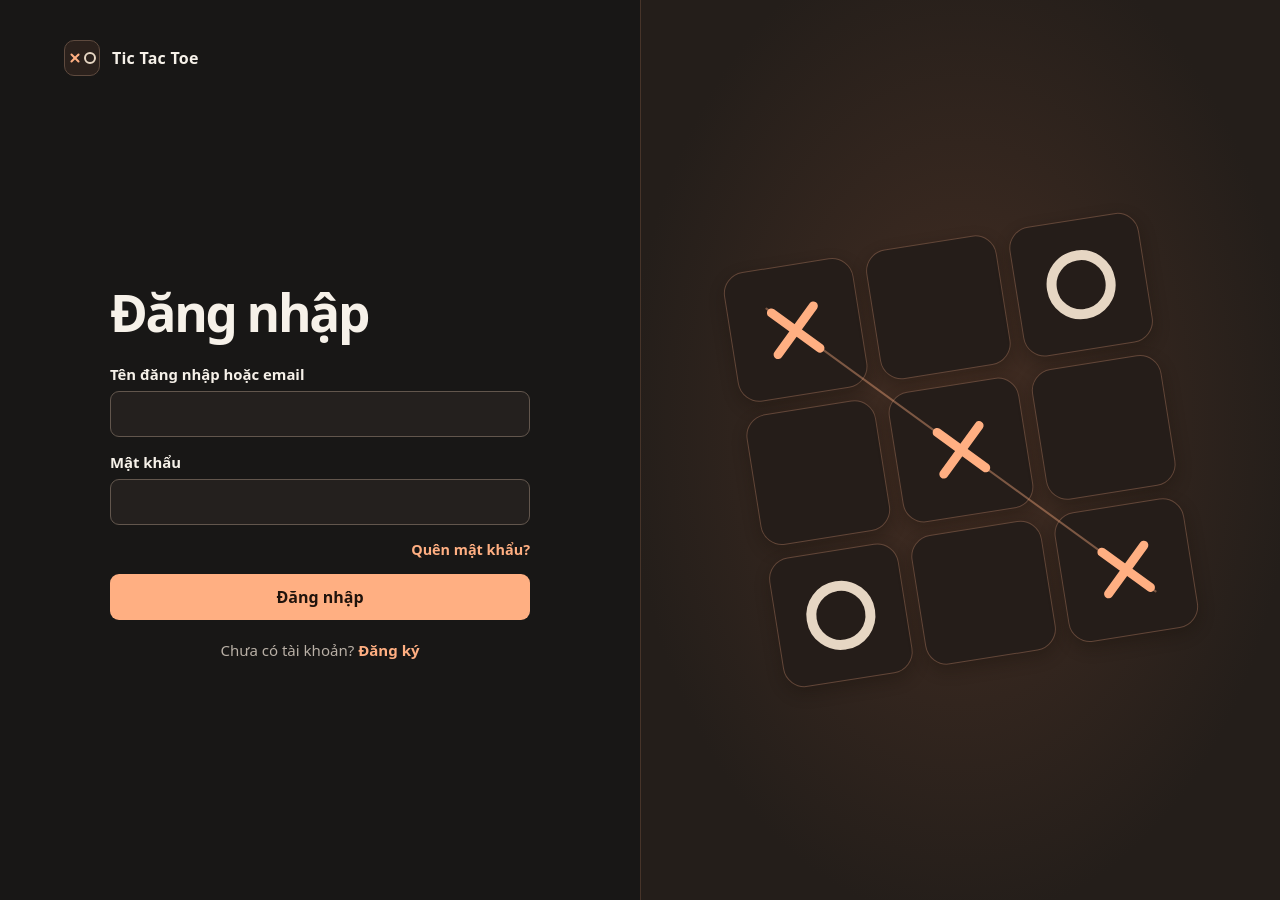
Test: Đăng ký tài khoản › gửi dữ liệu đăng ký rồi chuyển về màn hình đăng nhập với tên đã điền
Click the button "Đăng ký" at coordinates (389, 650), box [358,640,420,660]
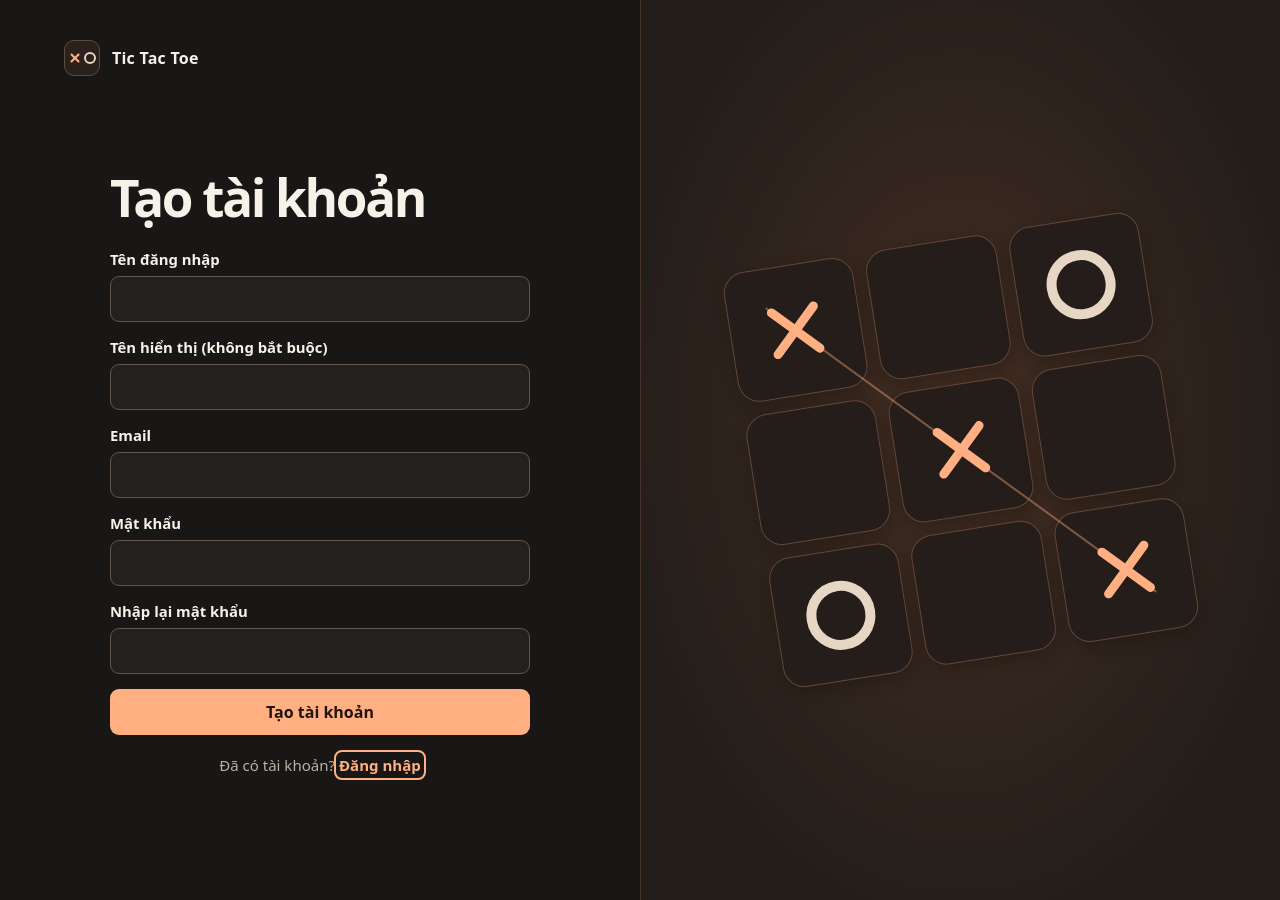
Type "player_one" into the field labelled "Tên đăng nhập" at coordinates (320, 299), box [110,276,530,322]
Type "Player One" into the field labelled "Tên hiển thị (không bắt buộc)" at coordinates (320, 387), box [110,364,530,410]
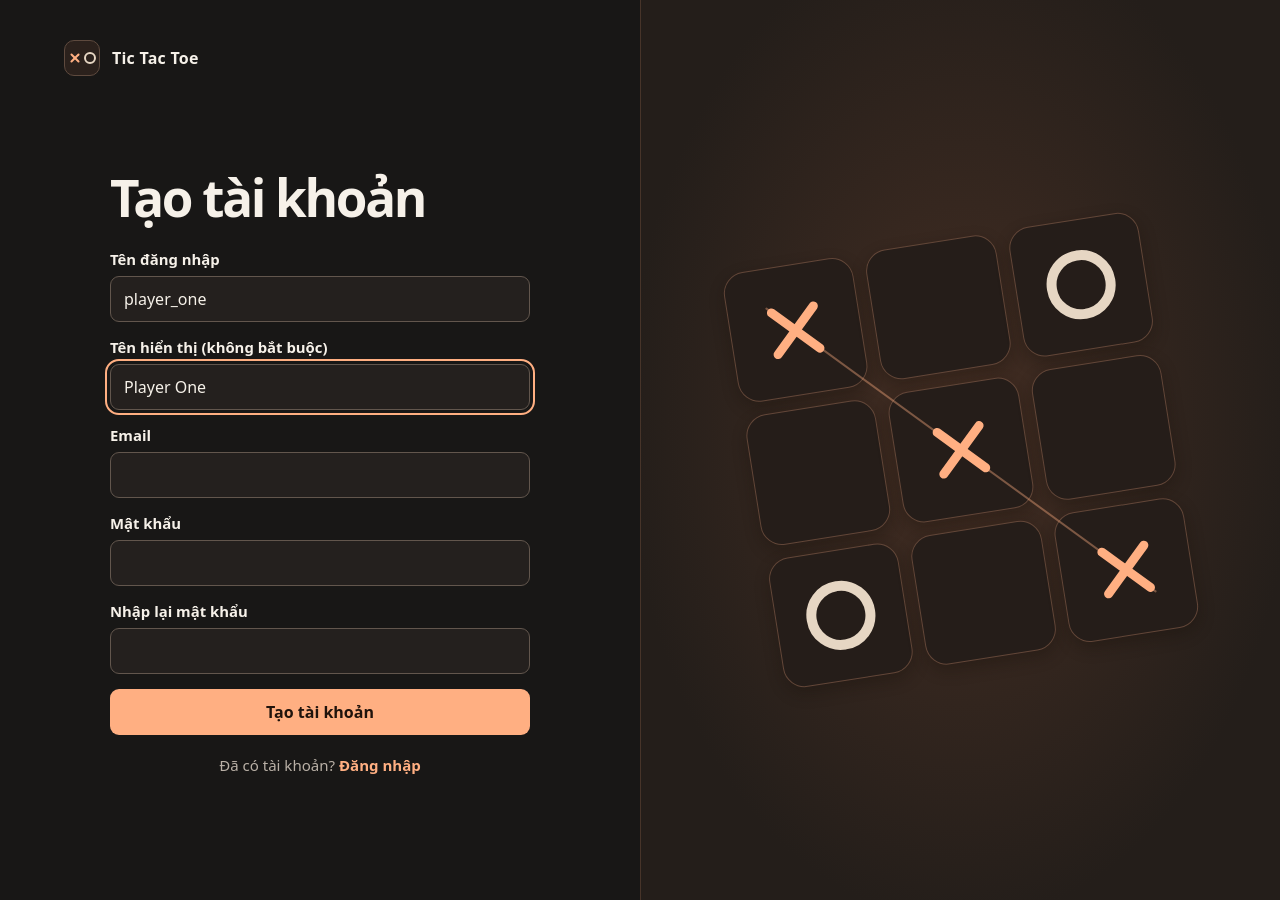
Type "player@example.test" into the field labelled "Email" at coordinates (320, 475), box [110,452,530,498]
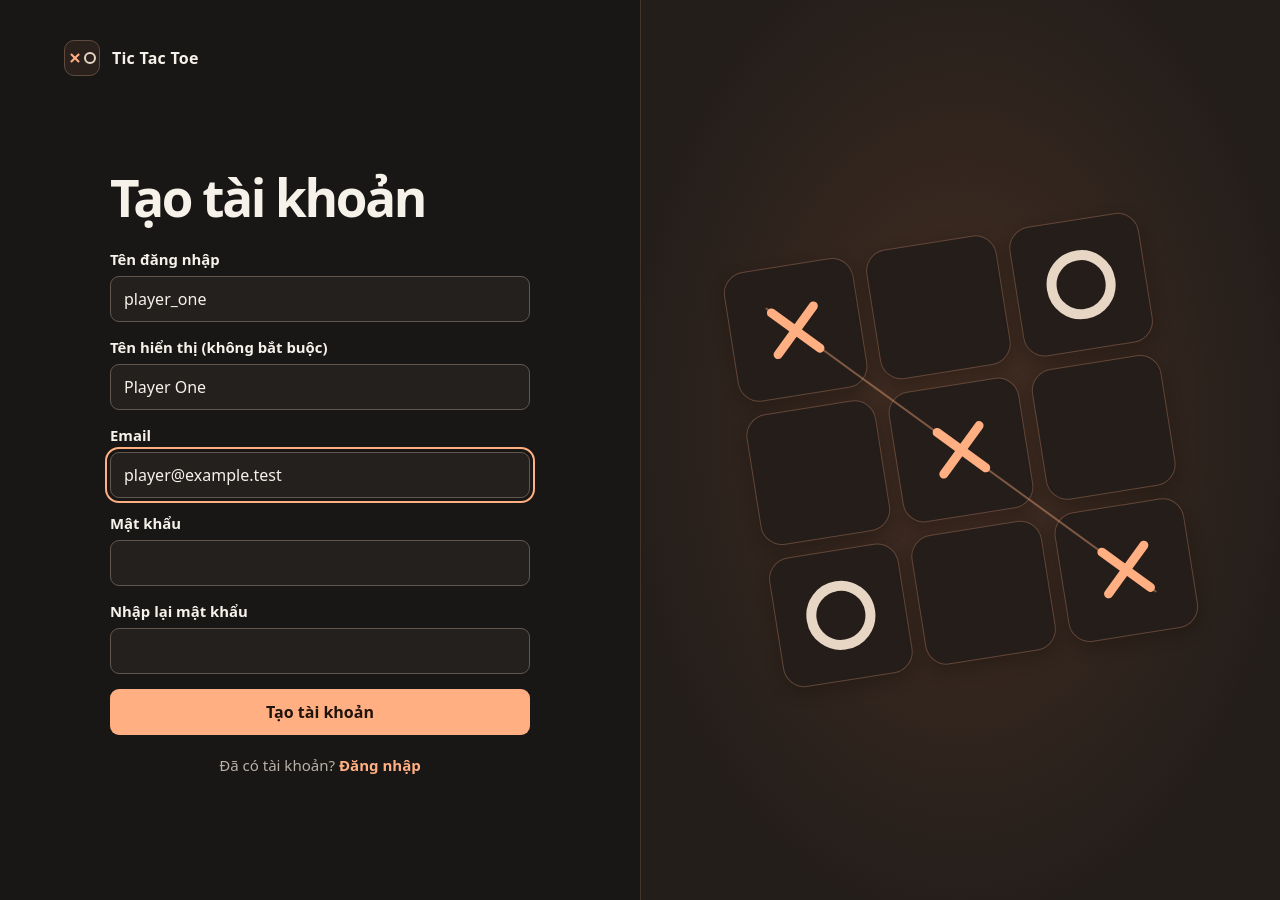
Type "password123" into the password field labelled "Mật khẩu" at coordinates (320, 563), box [110,540,530,586]
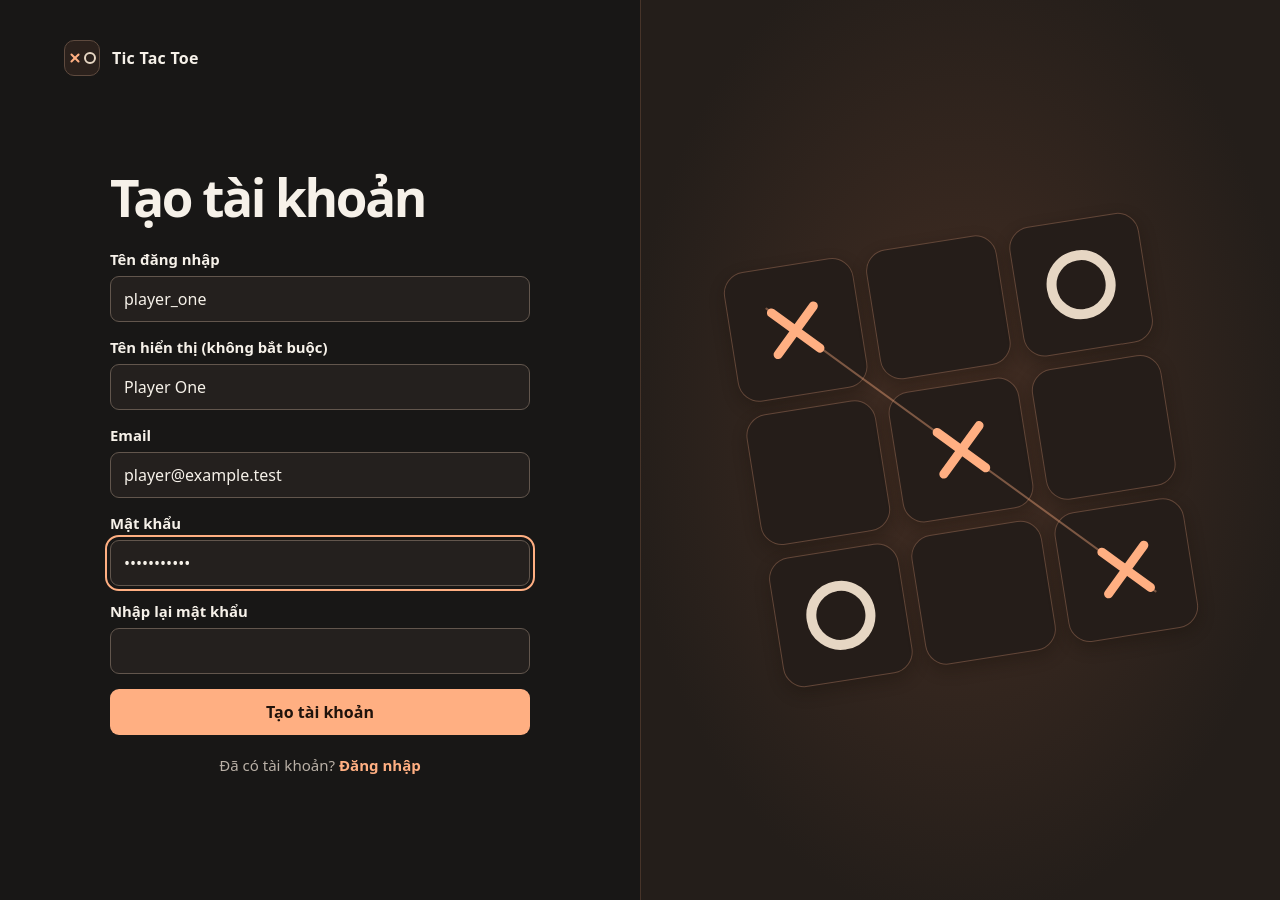
Type "password123" into the password field labelled "Nhập lại mật khẩu" at coordinates (320, 651), box [110,628,530,674]
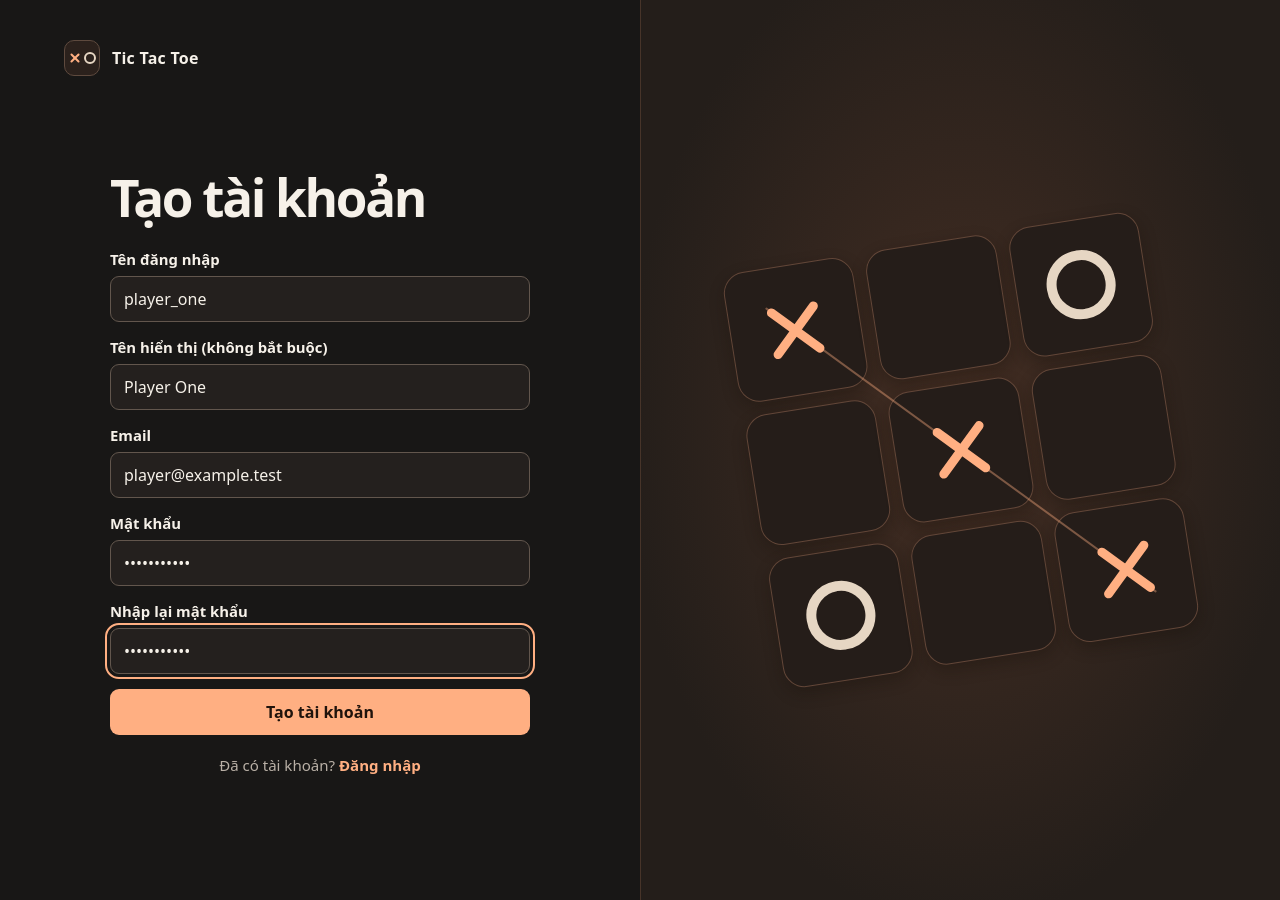
Click the button "Tạo tài khoản" at coordinates (320, 712), box [110,689,530,735]
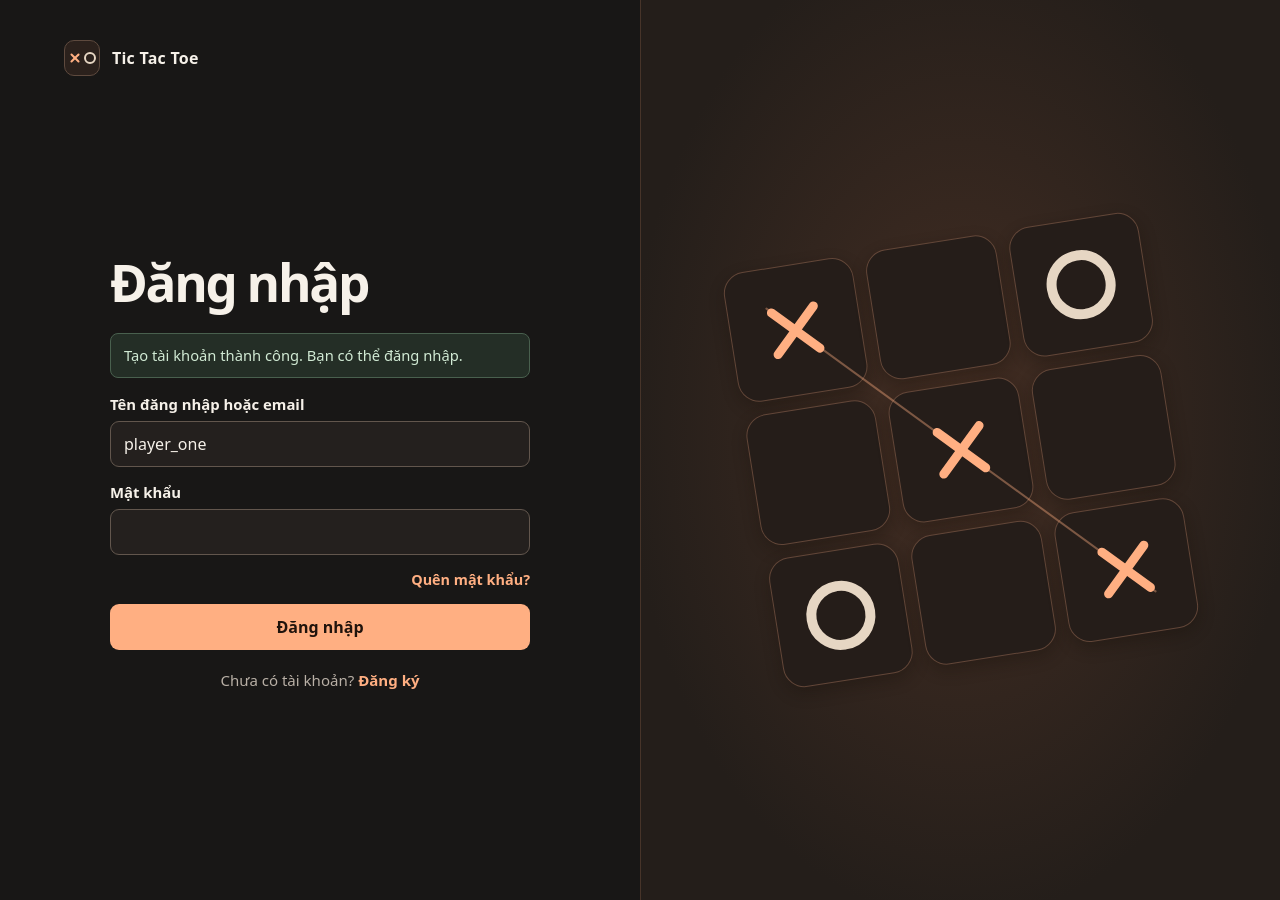
Now the text "Tạo tài khoản thành công. Bạn có thể đăng nhập." is shown, box [110,333,530,378]
Now the field labelled "Tên đăng nhập hoặc email" holds "player_one", box [110,421,530,467]
